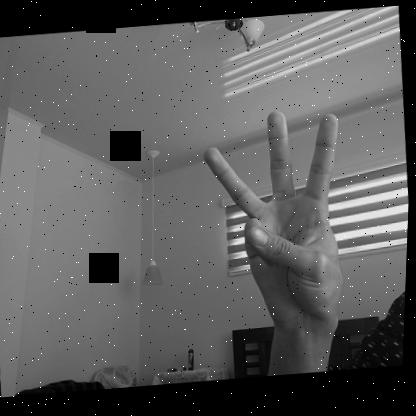W: (193, 104, 360, 340)
